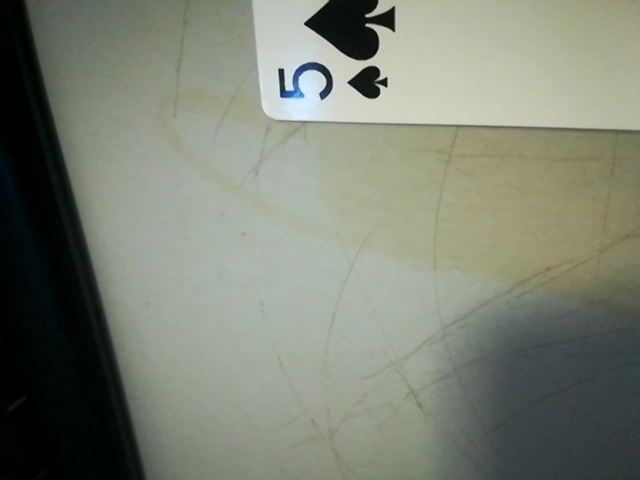ht 5: (266, 38, 400, 118)
